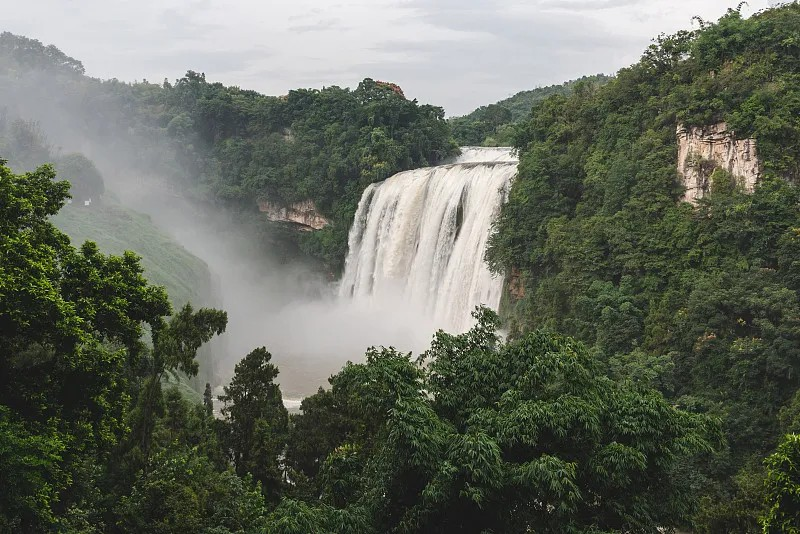Huangguoshu: (341, 145, 519, 334)
